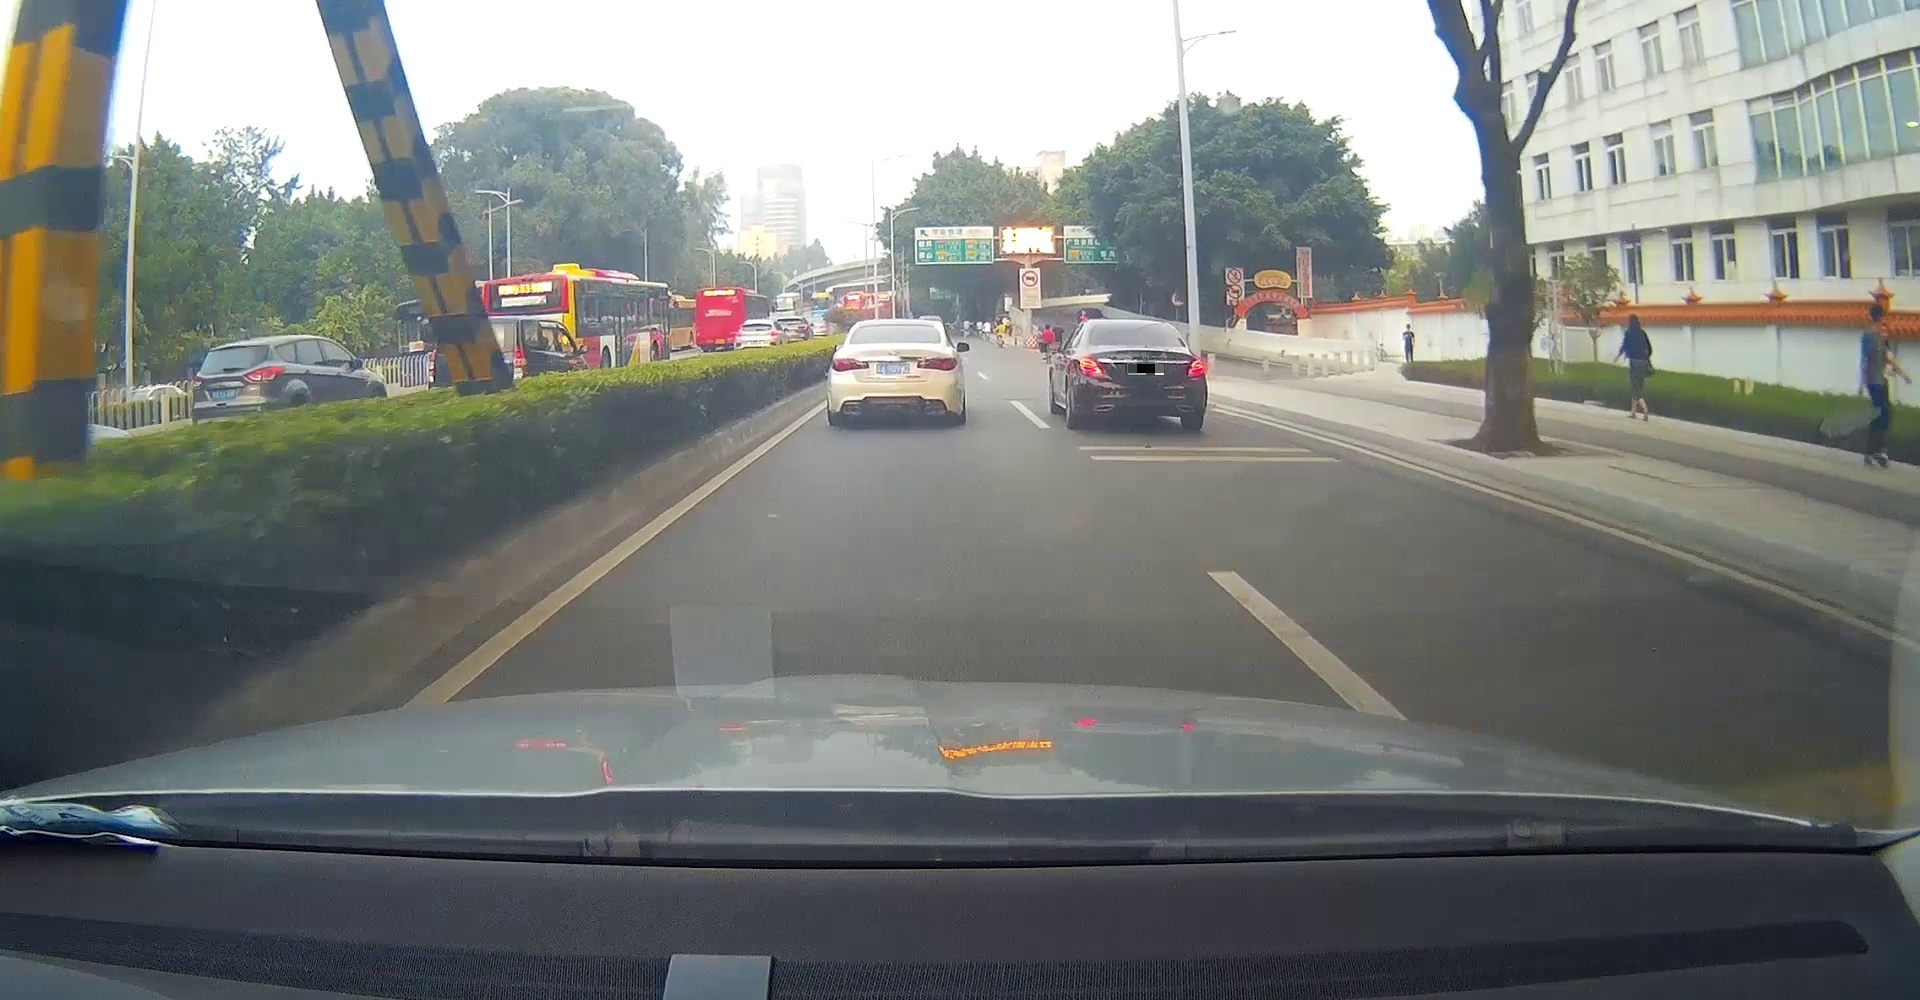L_light: (1078, 357, 1103, 379), (830, 357, 869, 371)
R_light: (916, 355, 956, 371), (1186, 357, 1205, 379)
T_light: (888, 325, 908, 330), (1124, 324, 1145, 327)
day-no: (1073, 319, 1208, 431), (828, 319, 960, 424)
plate_1: (1128, 364, 1164, 376)
